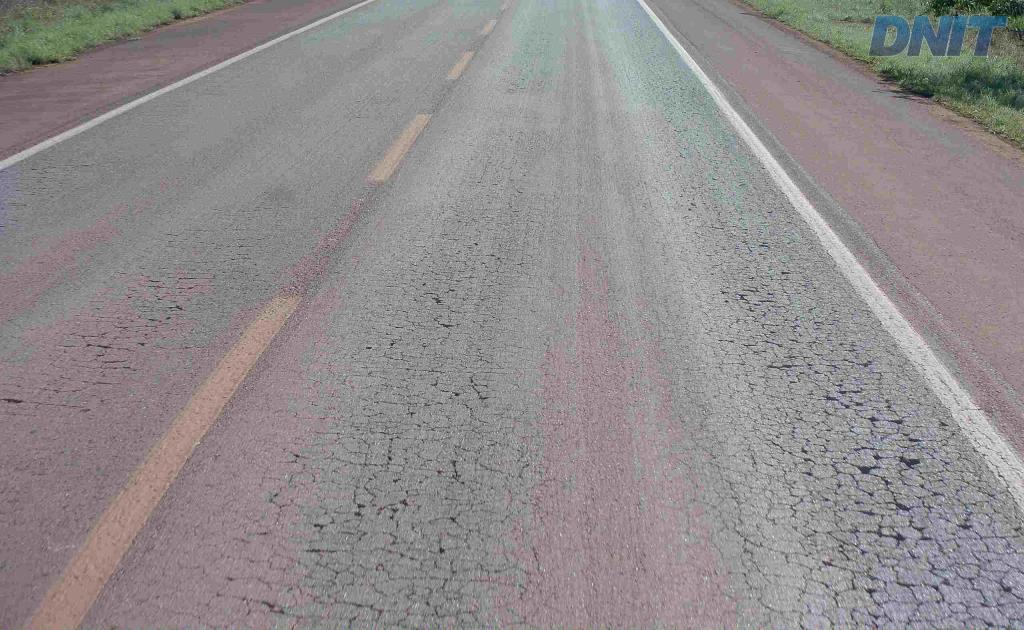crack: (830, 456, 932, 540)
